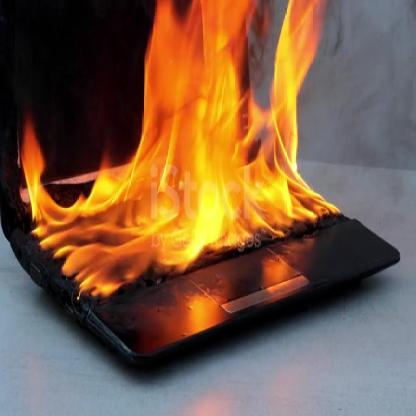fire: (15, 0, 335, 294)
